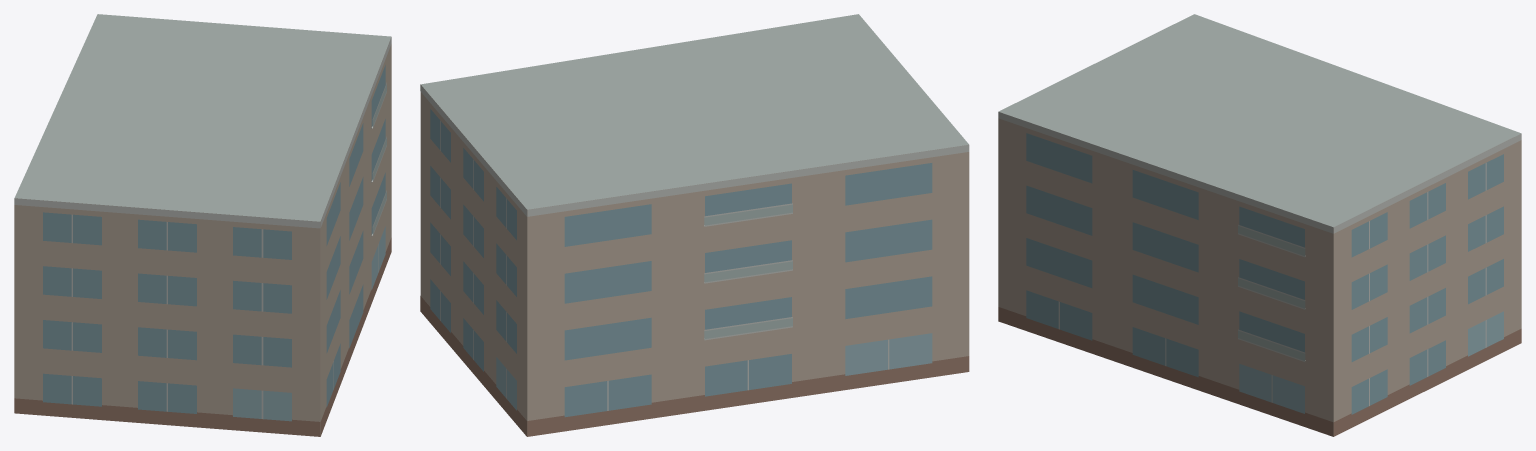
File: survey-upis-32743317.glb
3 renders of one model, left to right at view 1: azimuth 30°, elevation 25°; view 2: azimuth 150°, elevation 25°; view 3: azimuth 270°, elevation 25°, orthographic. The views are drawn at different scales.
Visible parts, largest first — view 1: survey-upis-32743317.tmp; view 2: survey-upis-32743317.tmp; view 3: survey-upis-32743317.tmp.
Boxes of the visible parts, bbox=[...] form: survey-upis-32743317.tmp: bbox=[14, 14, 391, 436]; survey-upis-32743317.tmp: bbox=[420, 14, 969, 436]; survey-upis-32743317.tmp: bbox=[998, 14, 1521, 436].
Bounding box in the file's own units: 17.03 × 7.8 × 17.66.
